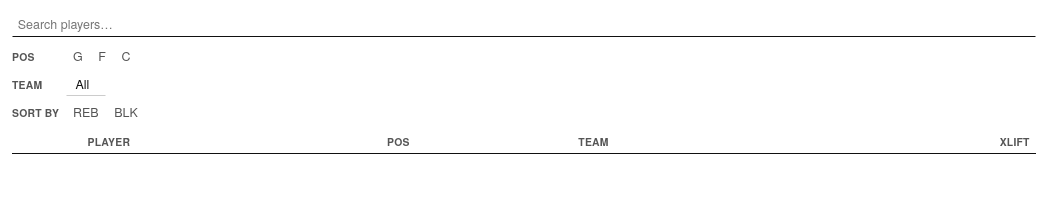
player picker filters (013) › the Team checklist offers free agents and the other teams
Step 1. Click the button with aria-label "Team" → {"x": 86, "y": 84}, box [66,71,106,96]
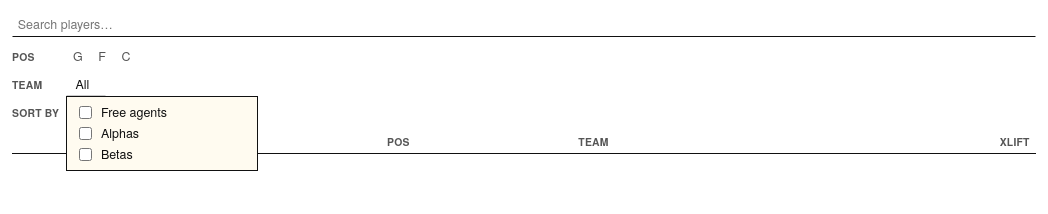
Now the number of checkboxes is 3
Step 2. Click the checkbox labelled "Free agents" → {"x": 86, "y": 113}, box [79,106,92,119]
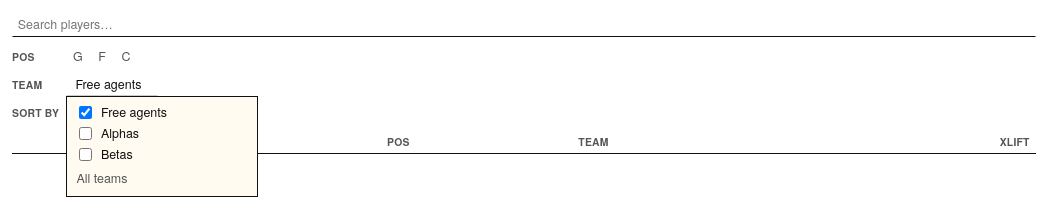
Step 3. Click the checkbox labelled "Betas" → {"x": 86, "y": 154}, box [79,148,92,160]
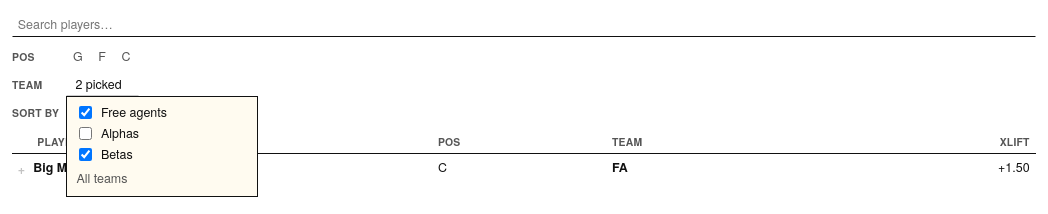
Now the button with aria-label "Team" reads "2 picked", box [66,71,139,96]
